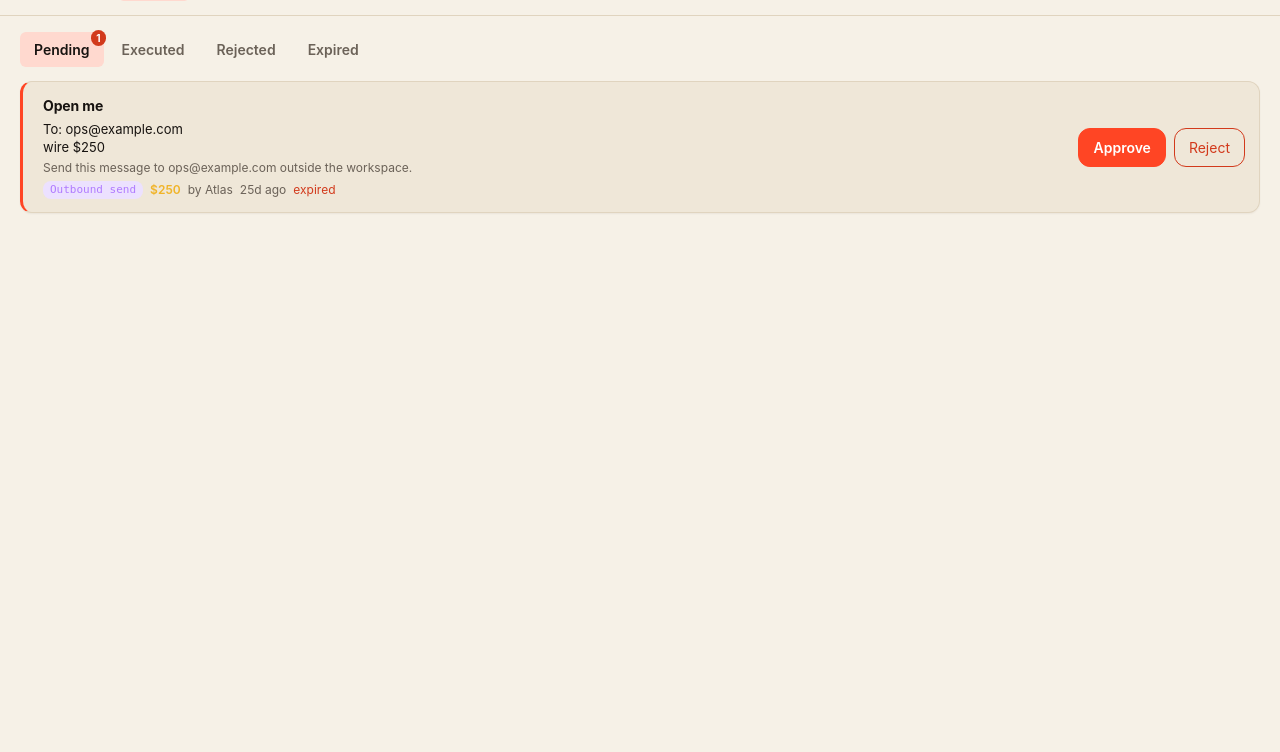
ApprovalsPanel › opens a request's detail (audit timeline) from a queue row
Step 1. Click the button with aria-label "Open request: Open me" → (73,106), box x1=37 y1=94 x2=1066 y2=200
(page scrolled)
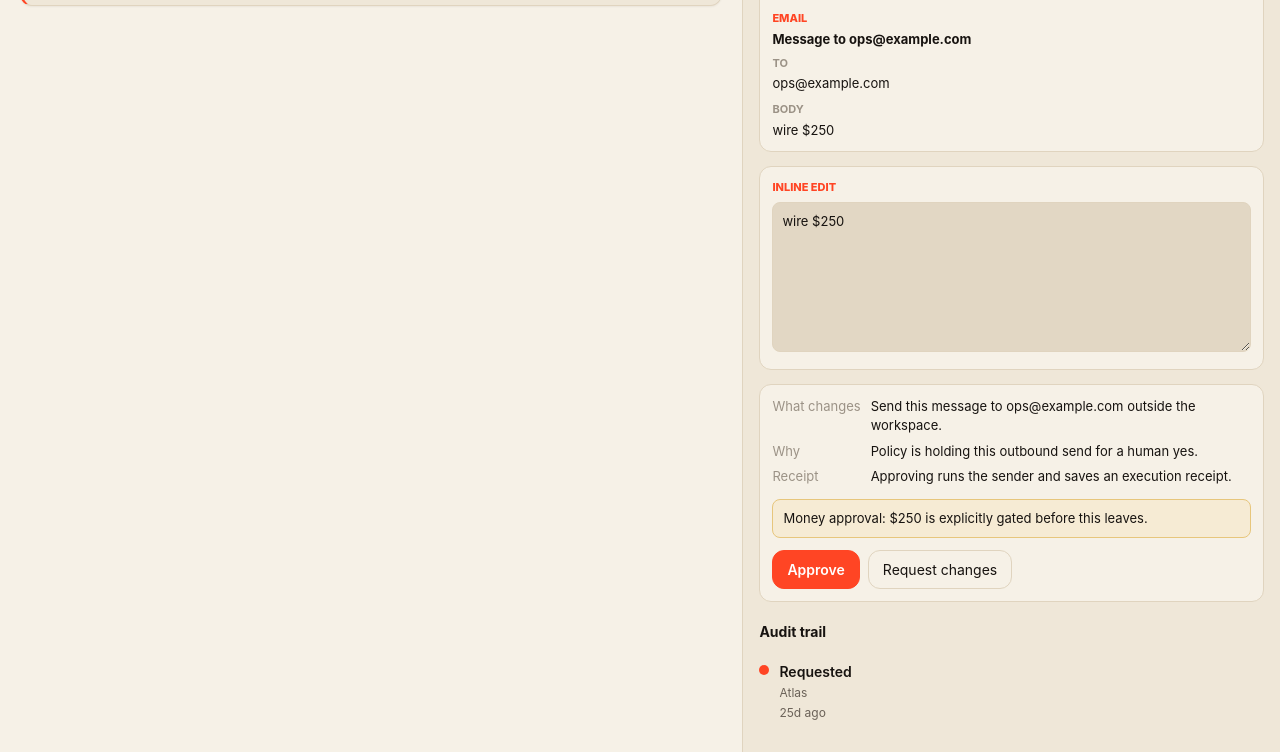
Expected: the heading "Audit trail" is shown, x1=759 y1=623 x2=826 y2=640
Expected: the text "Requested" is shown, x1=779 y1=661 x2=852 y2=682
